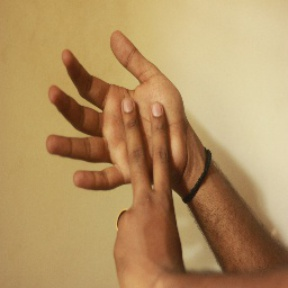N: (38, 22, 195, 230)
